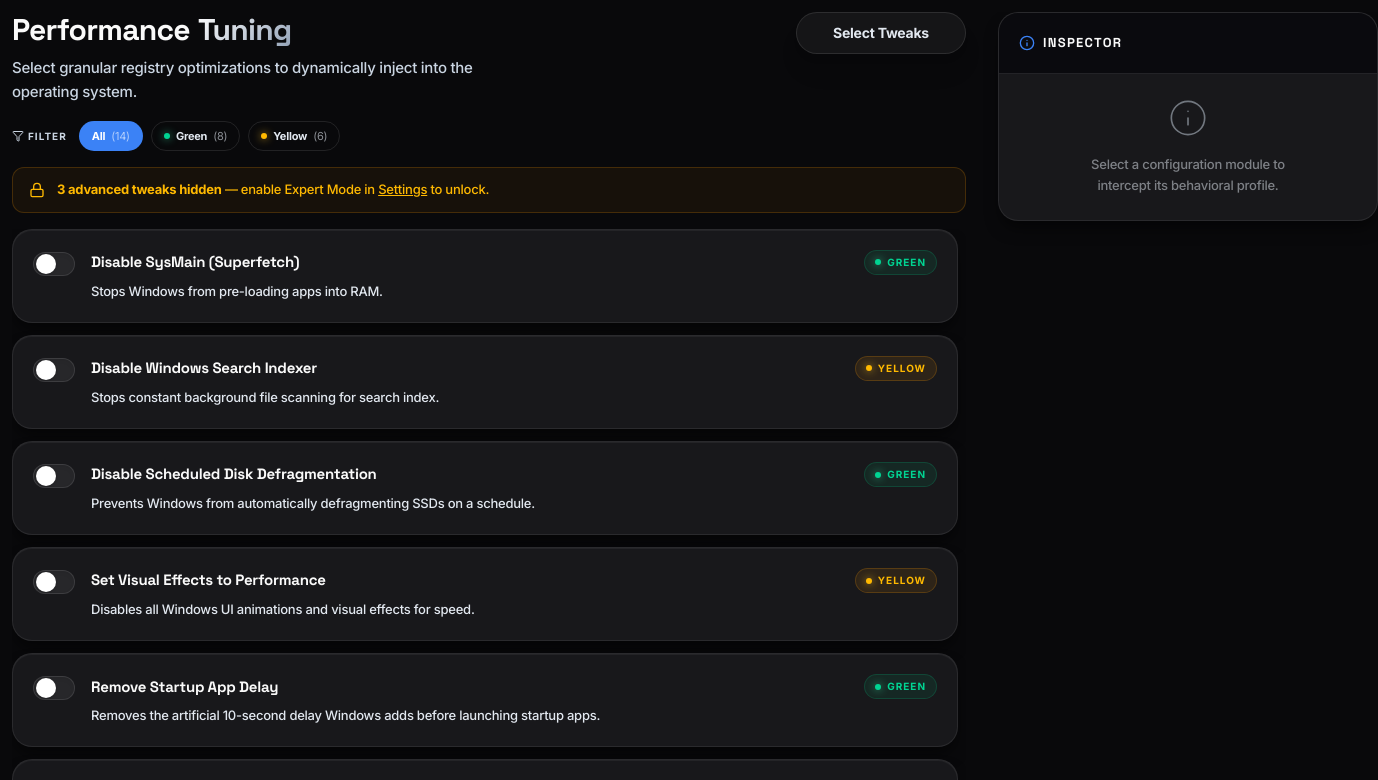
Test: TweaksPage › filters tweaks so only matching risk-level items remain
Expected: the heading "Disable SysMain (Superfetch)" is shown, [91,251,299,274]
Expected: the heading "Disable Windows Search Indexer" is shown, [91,357,317,380]
Click the button "Yellow (6)" at (294, 136), box [248,121,340,151]
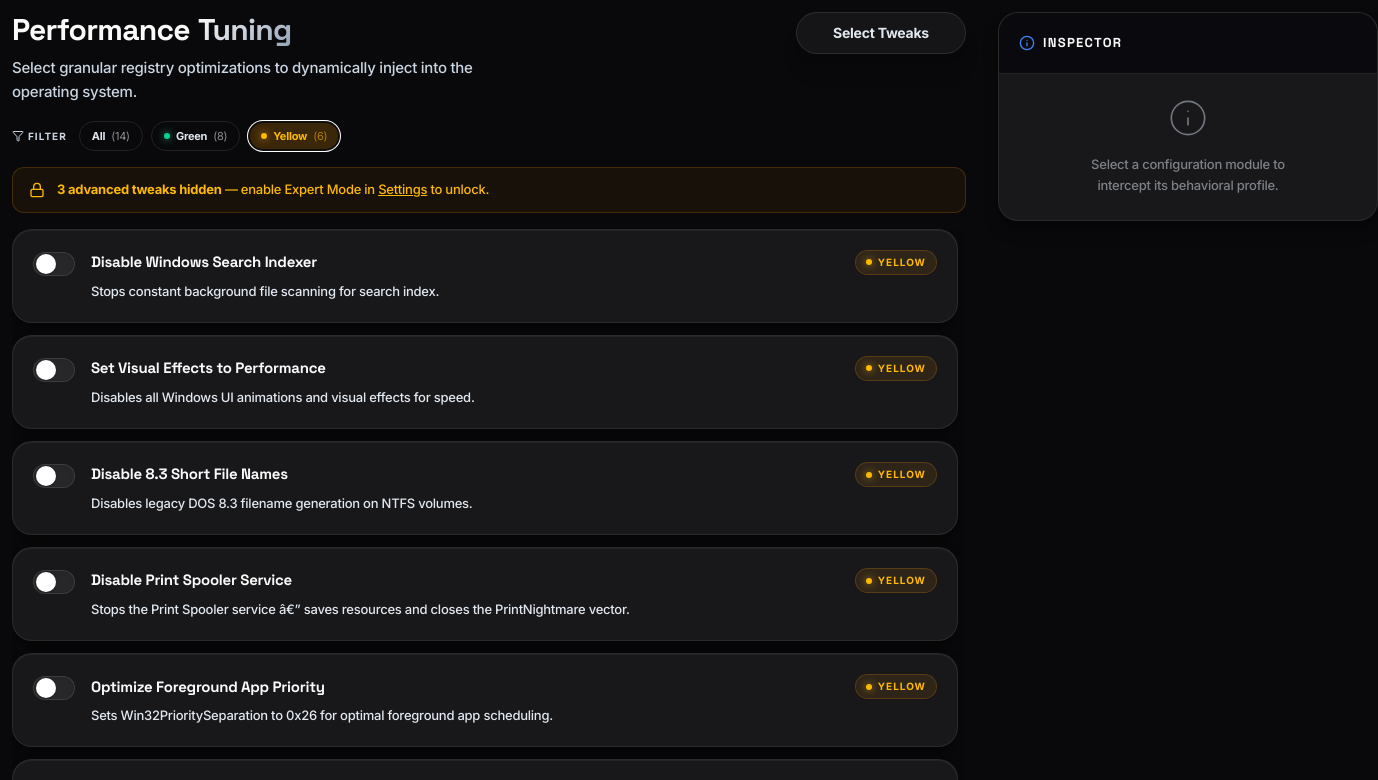
Expected: the heading "Disable Windows Search Indexer" is shown, [91,251,317,274]
Expected: the heading "Disable SysMain (Superfetch)" is gone
